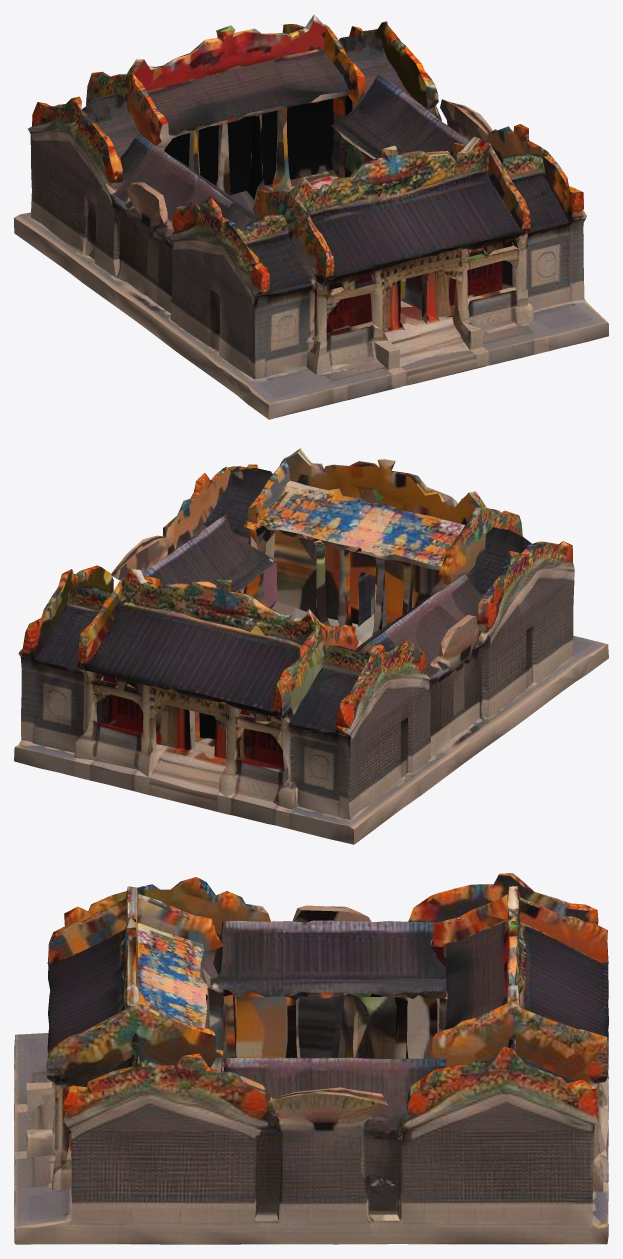
File: chen-clan-ancestral-hall.glb
3 views of the same model, one above another, from view 1: azimuth 30°, elevation 25°; view 2: azimuth 150°, elevation 25°; view 3: azimuth 270°, elevation 25° (orthographic). The views are drawn at different scales.
Parts seen in each view (by area): view 1: logan-textured.obj; view 2: logan-textured.obj; view 3: logan-textured.obj.
Part boxes in pixels (left/top/right/bottom): logan-textured.obj: left=14, top=14, right=608, bottom=419; logan-textured.obj: left=14, top=448, right=608, bottom=844; logan-textured.obj: left=14, top=873, right=608, bottom=1244.
Bounding box in the file's own units: 0.7718 × 0.4209 × 1.
1 material, 1 textured.
